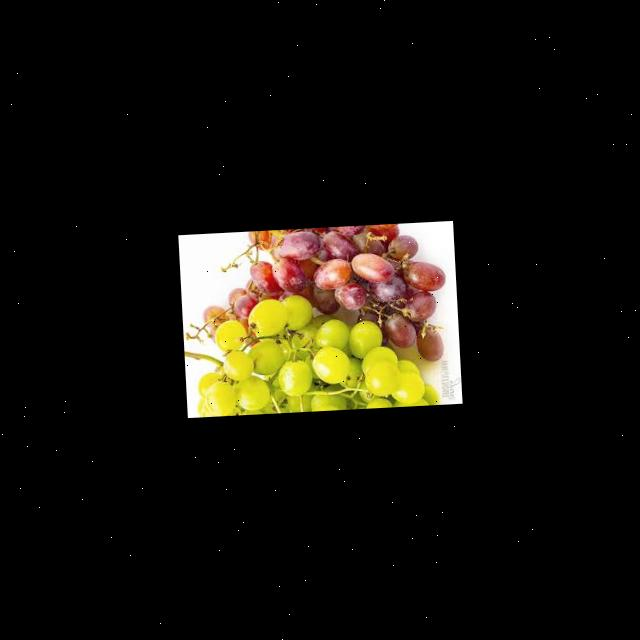grape: (178, 222, 452, 418)
